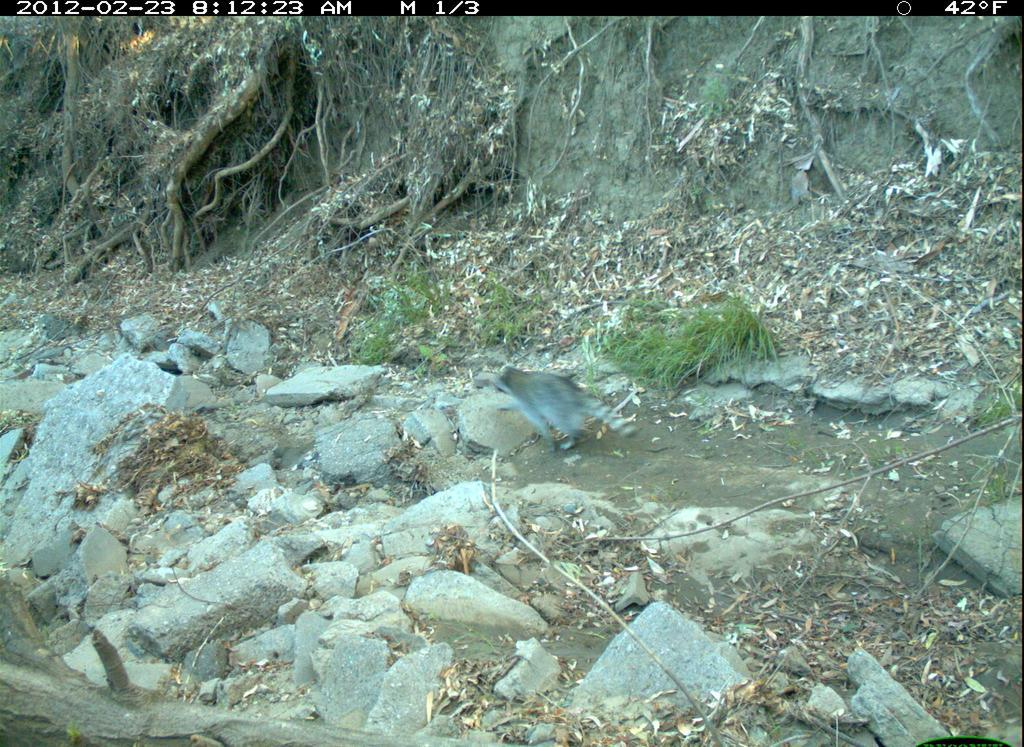raccoon: (484, 355, 647, 459)
